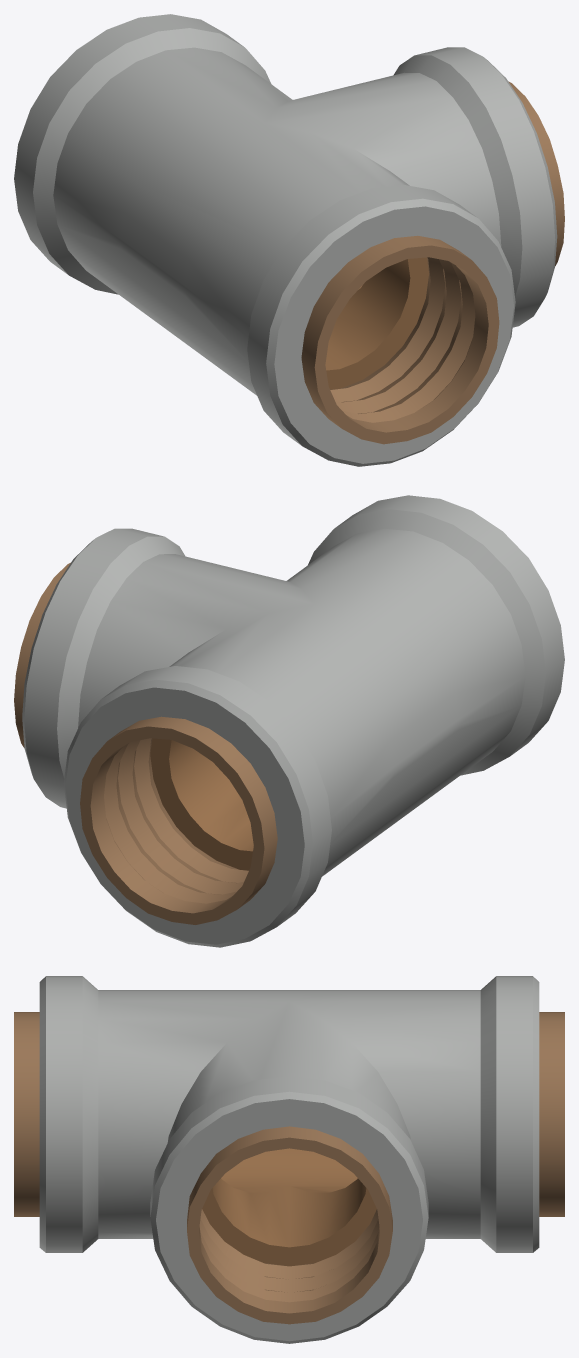
Rendered from pipes_supply__water_heater__977172ac.glb.
The picture shows the model from 3 angles, top to bottom: view 1: azimuth 30°, elevation 25°; view 2: azimuth 150°, elevation 25°; view 3: azimuth 270°, elevation 25°; orthographic projection. The views are drawn at different scales.
Parts seen in each view (by area): view 1: fit_tee_pipe_supply_cold_wh_closet__galvanized; view 2: fit_tee_pipe_supply_cold_wh_closet__galvanized; view 3: fit_tee_pipe_supply_cold_wh_closet__galvanized.
Part boxes in pixels (<box>): fit_tee_pipe_supply_cold_wh_closet__galvanized: <box>14,14,564,466</box>; fit_tee_pipe_supply_cold_wh_closet__galvanized: <box>14,495,564,947</box>; fit_tee_pipe_supply_cold_wh_closet__galvanized: <box>14,976,564,1343</box>.
Size of the model in its own units: 0.0553 by 0.0371 by 0.0735.
